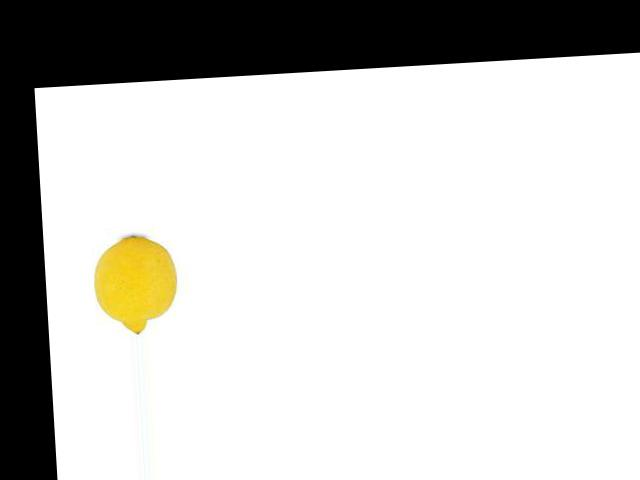lemon: (78, 225, 180, 338)
